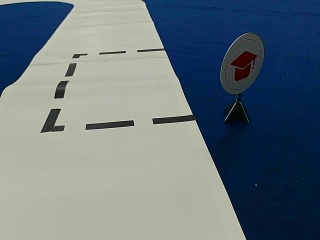school: (220, 34, 263, 93)
